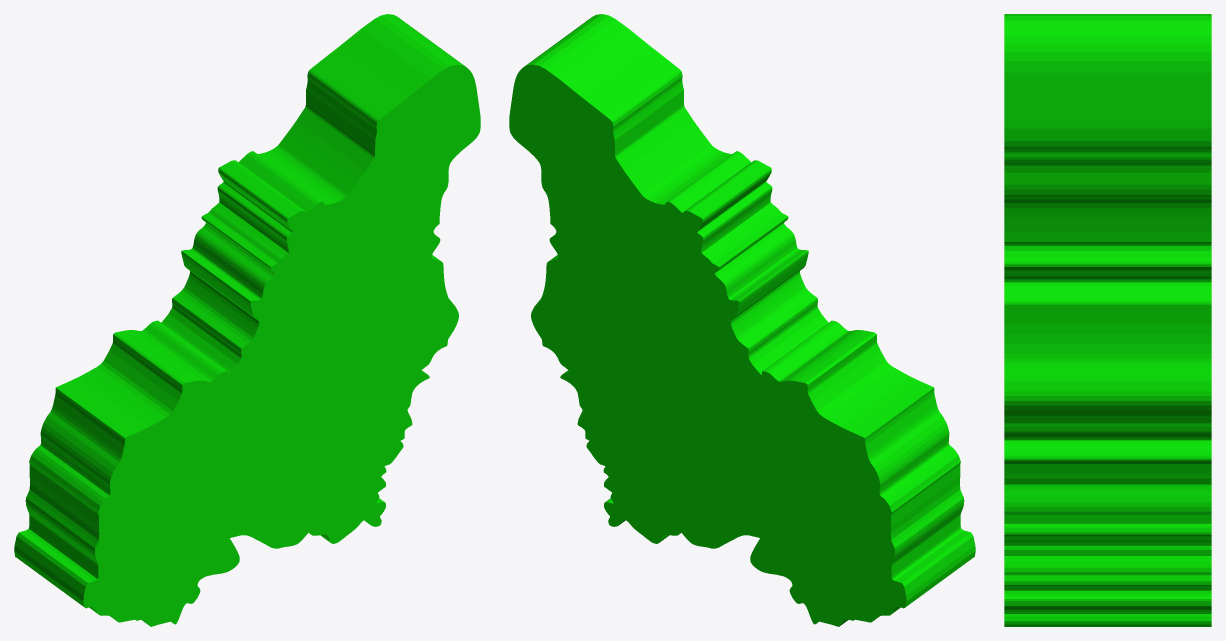
The model's file is puertoinca.glb.
The picture shows the model from 3 angles, left to right: view 1: azimuth 30°, elevation 25°; view 2: azimuth 150°, elevation 25°; view 3: azimuth 270°, elevation 25°; orthographic projection. The views are drawn at different scales.
Parts seen in each view (by area): view 1: puertoinca; view 2: puertoinca; view 3: puertoinca.
Boxes of the visible parts, left/top/right/bottom form: puertoinca: left=14, top=14, right=480, bottom=626; puertoinca: left=509, top=14, right=975, bottom=626; puertoinca: left=1004, top=14, right=1211, bottom=626.
Size of the model in its own units: 4.42 by 5.23 by 1.33.
